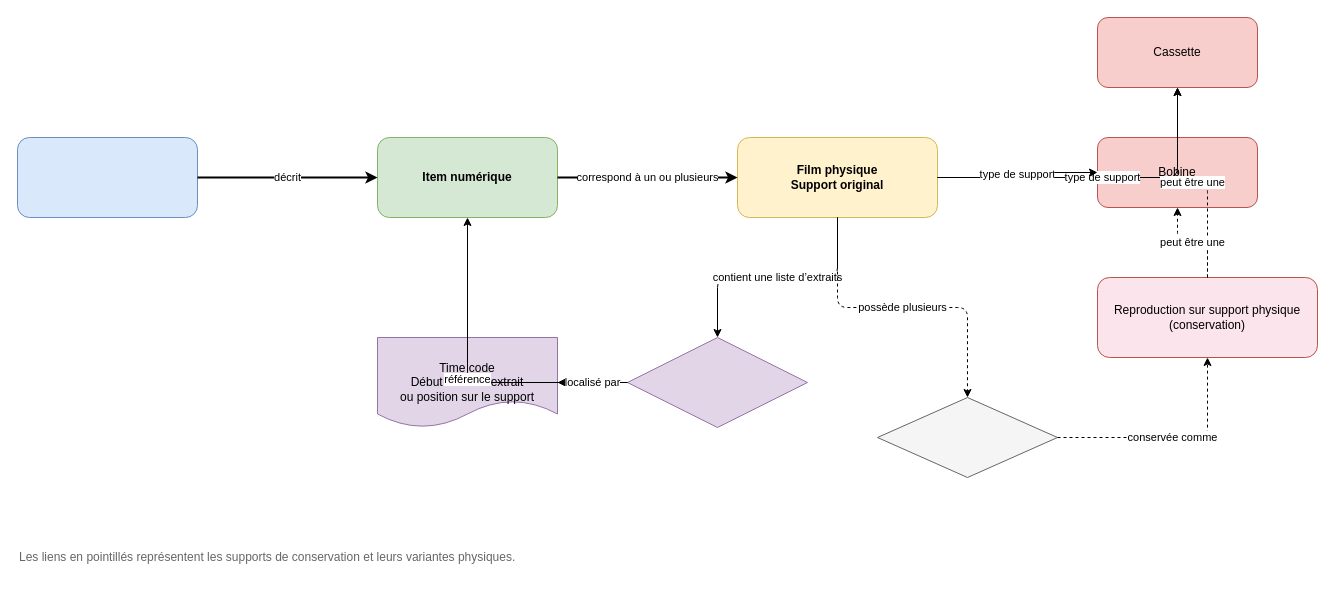
Some shapes in this 1335 by 595 pixel diagram are drawn without their labels. The centre of each missing label's shape, as x and y in pixels:
"est reproduit sur" goes at [967,437].
"Extrait / présence du film numérique" goes at [717,382].
"Notice d’œuvre" goes at [107,177].
